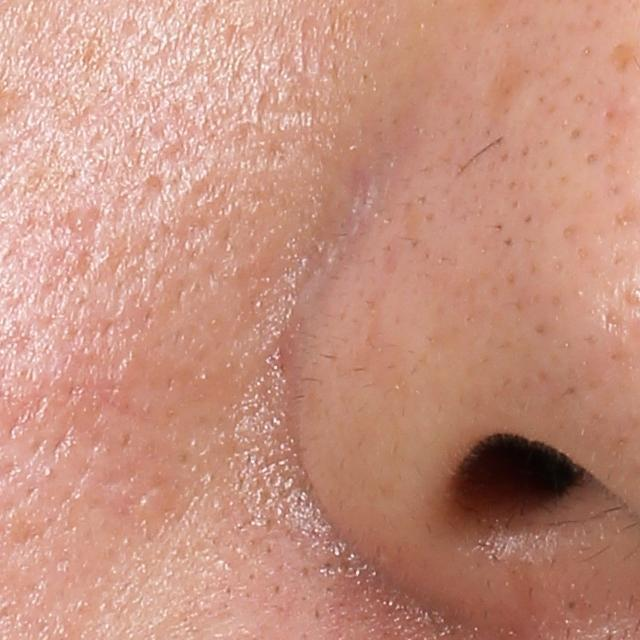atrophic_scar: (609, 39, 638, 76)
